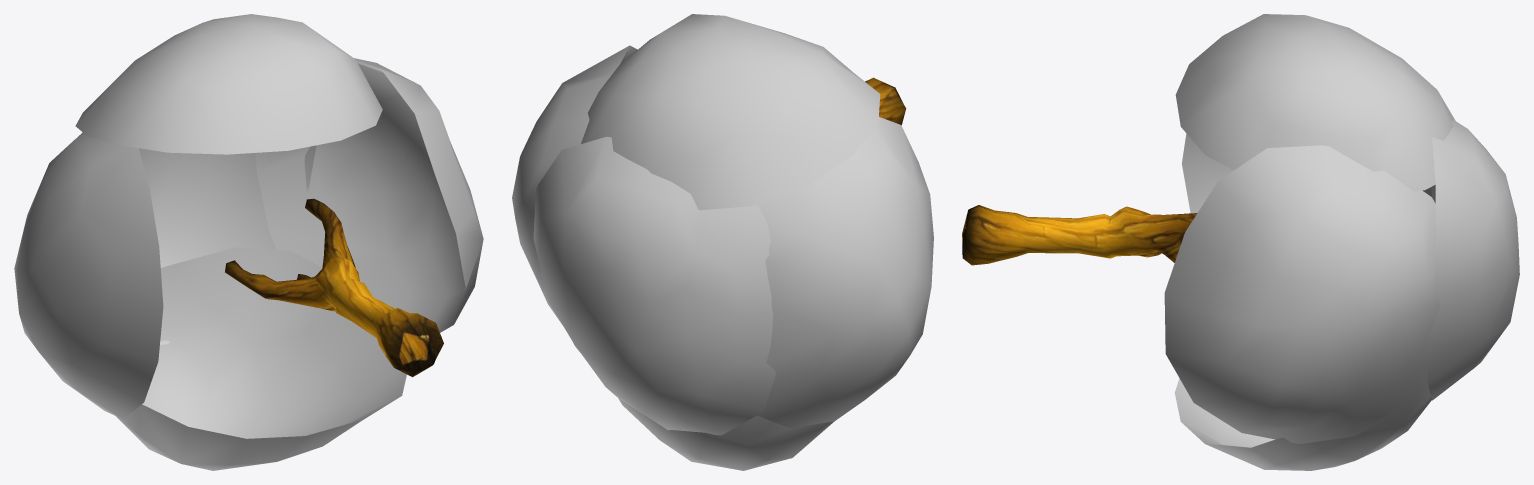
File: tree04.fbx
3 renders of one model, left to right at view 1: azimuth 30°, elevation 25°; view 2: azimuth 150°, elevation 25°; view 3: azimuth 270°, elevation 25°, orthographic. The views are drawn at different scales.
Parts seen in each view (by area): view 1: tree01; view 2: tree01; view 3: tree01.
Part boxes in pixels (<box>): tree01: <box>14,14,483,470</box>; tree01: <box>512,14,933,470</box>; tree01: <box>962,14,1519,470</box>.
Size of the model in its own units: 413 by 411 by 482.
